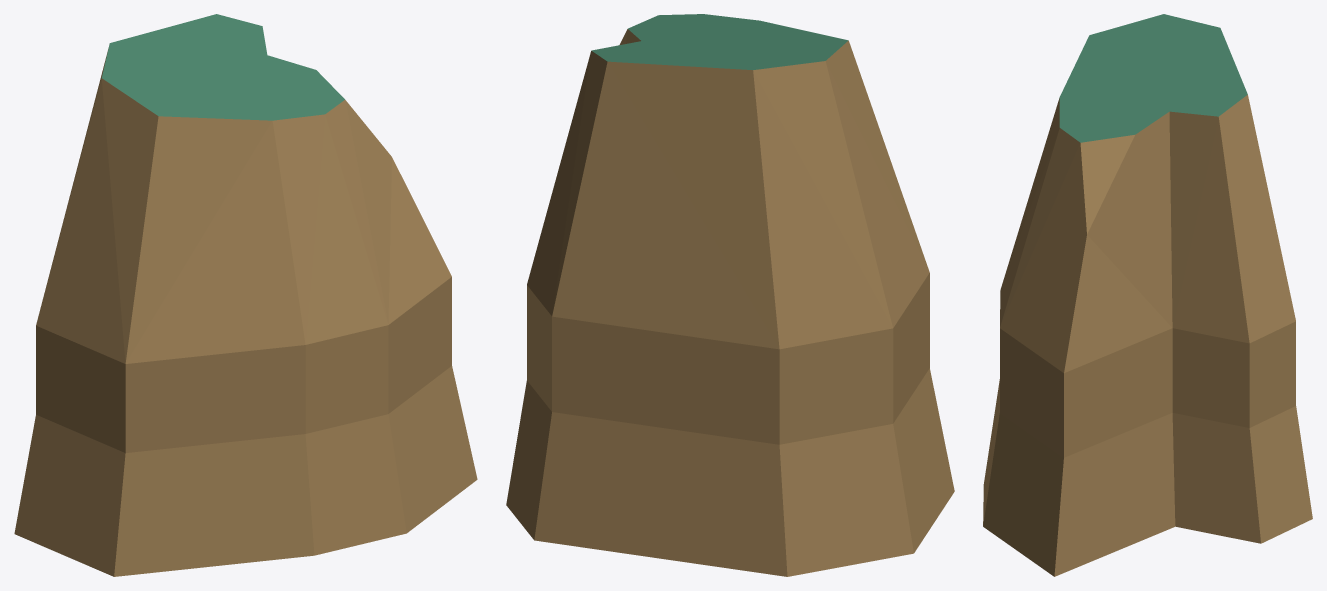
Rendered from Rock_Large_Mesa_Eroded_Moss_Grass_05.FBX.
3 views of the same model, side by side, from view 1: azimuth 30°, elevation 25°; view 2: azimuth 150°, elevation 25°; view 3: azimuth 270°, elevation 25° (orthographic). The views are drawn at different scales.
Visible parts, largest first — view 1: Rock_Large_Mesa_Eroded_Moss_Grass_05; view 2: Rock_Large_Mesa_Eroded_Moss_Grass_05; view 3: Rock_Large_Mesa_Eroded_Moss_Grass_05.
Part boxes in pixels (x1,y1,x2,y2): Rock_Large_Mesa_Eroded_Moss_Grass_05: (14, 14, 477, 576); Rock_Large_Mesa_Eroded_Moss_Grass_05: (506, 14, 954, 576); Rock_Large_Mesa_Eroded_Moss_Grass_05: (983, 14, 1312, 576).
Bounding box in the file's own units: 6250 × 6532 × 4659.
